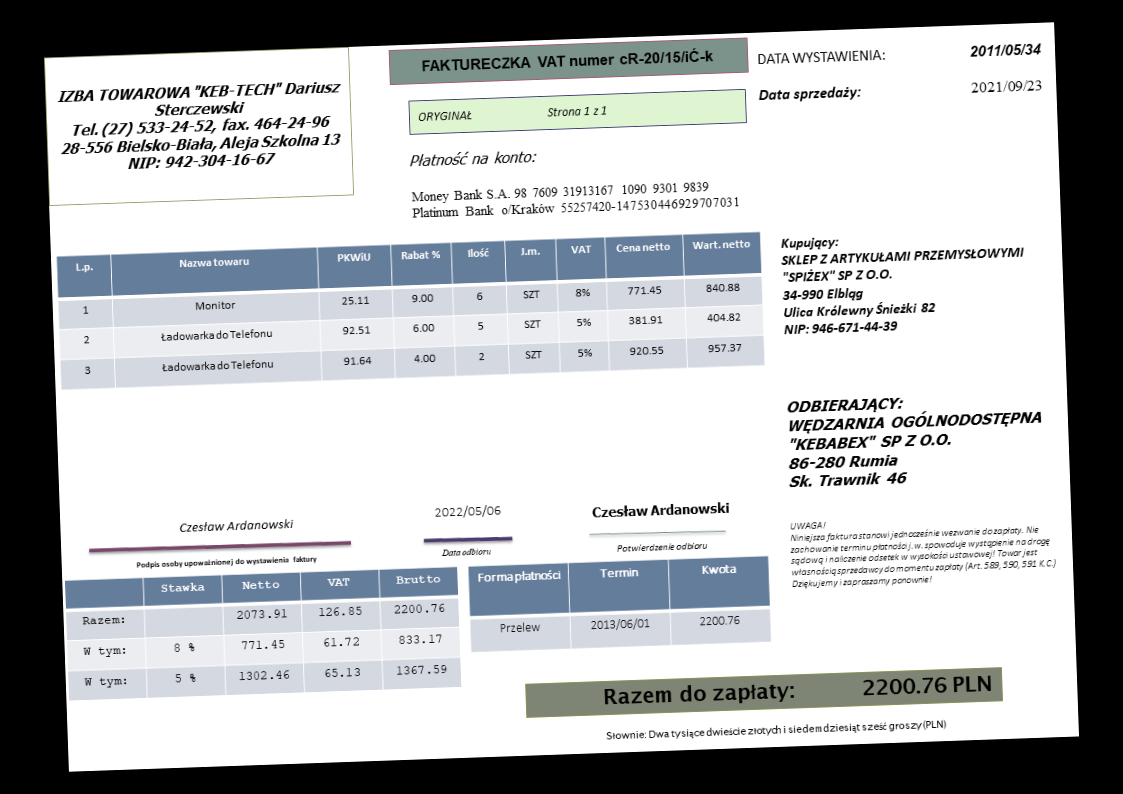Table: (54, 229, 767, 392), (63, 564, 463, 702), (466, 553, 773, 654)
TextBox: (54, 75, 345, 177), (777, 225, 1032, 339), (784, 389, 1048, 492), (787, 508, 1059, 592), (600, 671, 995, 711), (407, 175, 743, 221), (602, 716, 949, 745), (419, 45, 717, 75), (414, 100, 609, 126), (132, 551, 320, 571), (588, 497, 733, 521), (406, 146, 539, 171), (754, 44, 887, 68), (177, 513, 296, 536), (756, 82, 863, 106), (967, 39, 1045, 60), (613, 539, 710, 555), (968, 76, 1044, 96), (432, 502, 502, 521), (437, 544, 494, 559)
